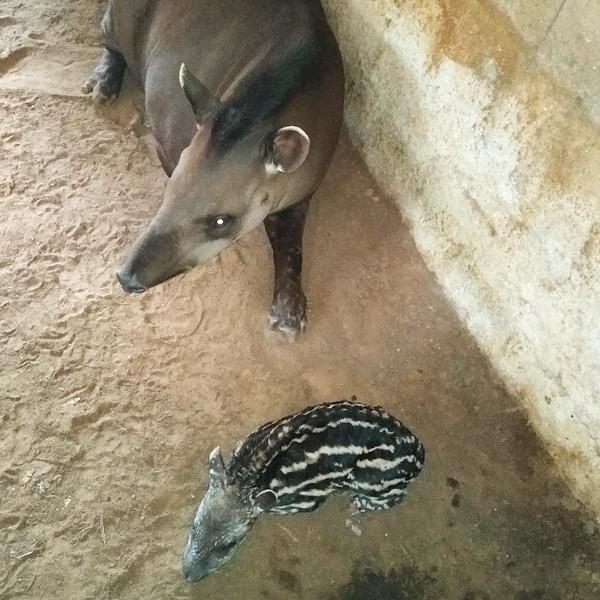Anta: (78, 4, 360, 351), (175, 396, 432, 587)
